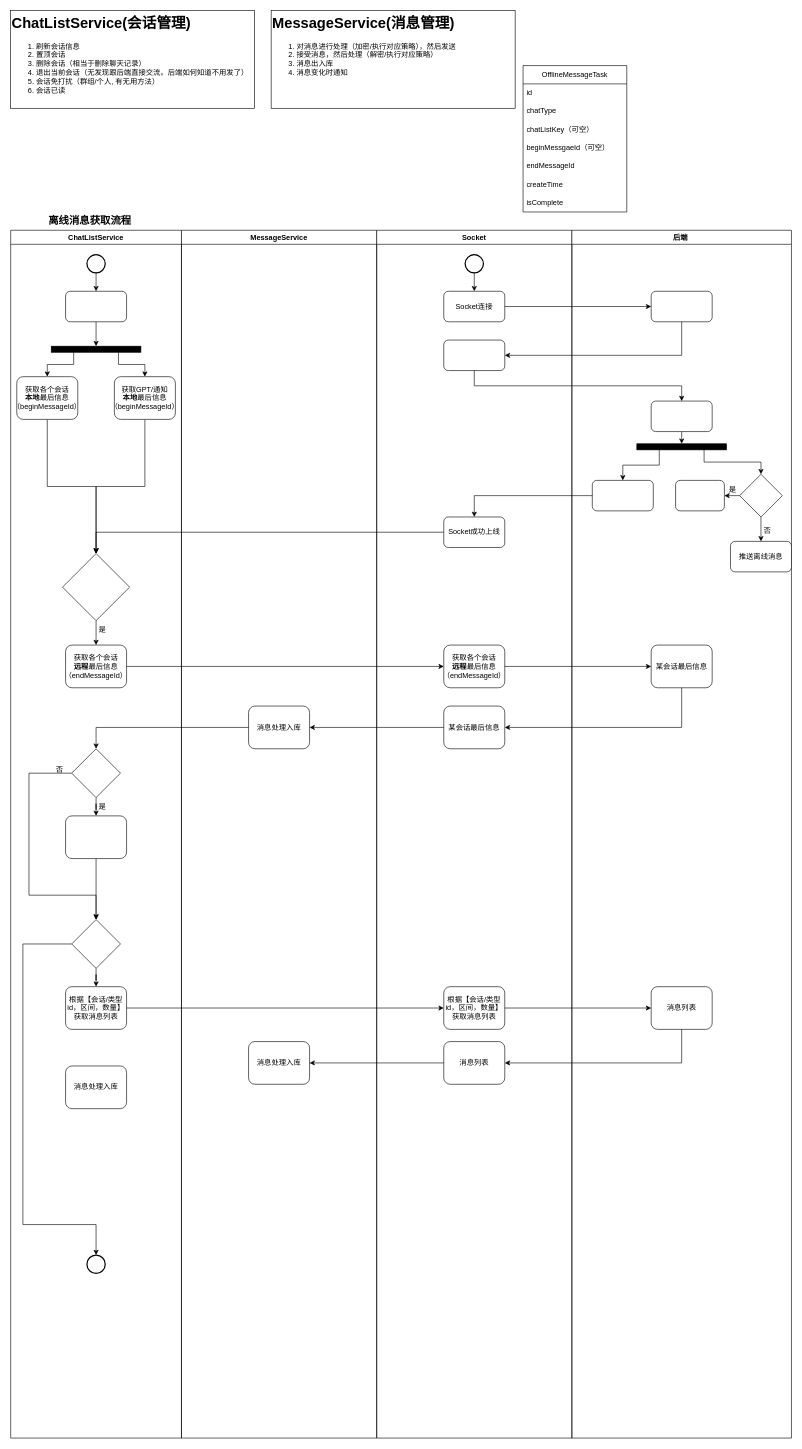
Image size: 802x1449. Some labels were removed from this diagram. Each missing label, with the centre of its shape:
"Socket上线" belongs at [474,355].
"socket上线且 初始化信息完成" belongs at [96,587].
"上线" belongs at [681,416].
"上线成功" belongs at [622,495].
"不处理" belongs at [699,495].
"与本地id 不同" belongs at [95,773].
"创建新任务" belongs at [96,837].
"当前 会话/类型 有任务" belongs at [95,943].
"拉取会话列表 （群组&私聊）" belongs at [96,306].
"新版本？" belongs at [760,495].
"连接" belongs at [681,306].
